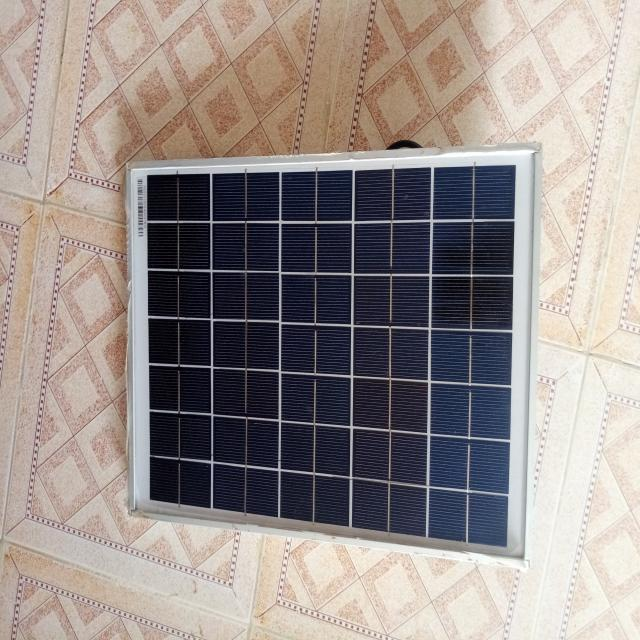Normal Solar Panel: (128, 148, 539, 564)
